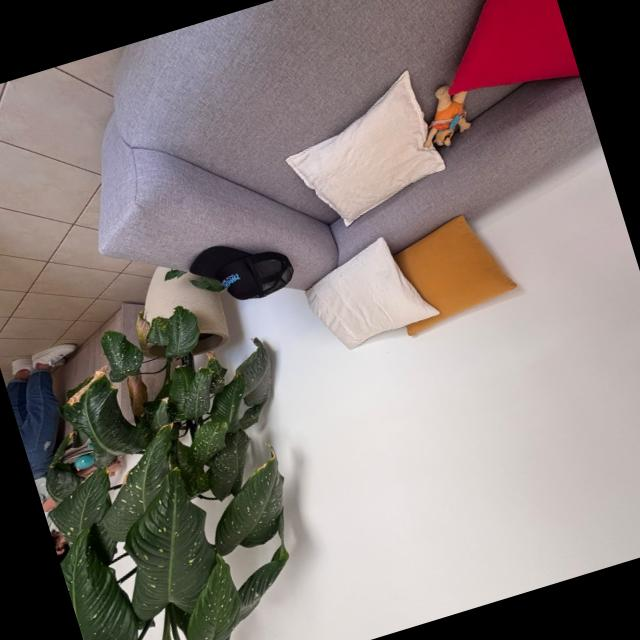Gorra: (180, 220, 304, 319)
